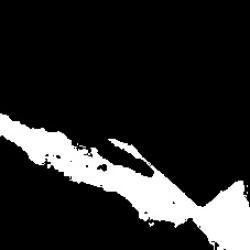crack: (1, 113, 250, 248)
